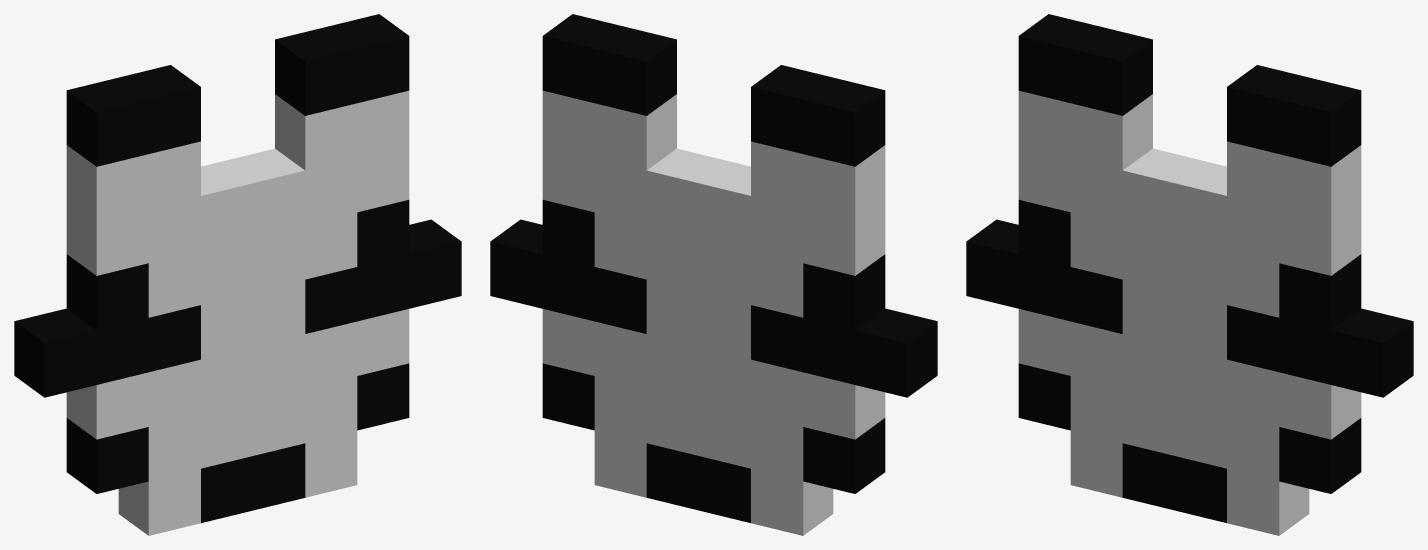
Rendered from tiger_mask.glb.
The picture shows the model from 3 angles, left to right: view 1: azimuth 30°, elevation 25°; view 2: azimuth 150°, elevation 25°; view 3: azimuth 330°, elevation 25°; orthographic projection.
Parts seen in each view (by area): view 1: tiger_mask; view 2: tiger_mask; view 3: tiger_mask.
Boxes of the visible parts, x1,y1,x2,y2 form: tiger_mask: (14,14,461,535); tiger_mask: (490,14,937,535); tiger_mask: (966,14,1413,535).
Size of the model in its own units: 0.8 by 0.8 by 0.1.
1 material, 1 textured.
